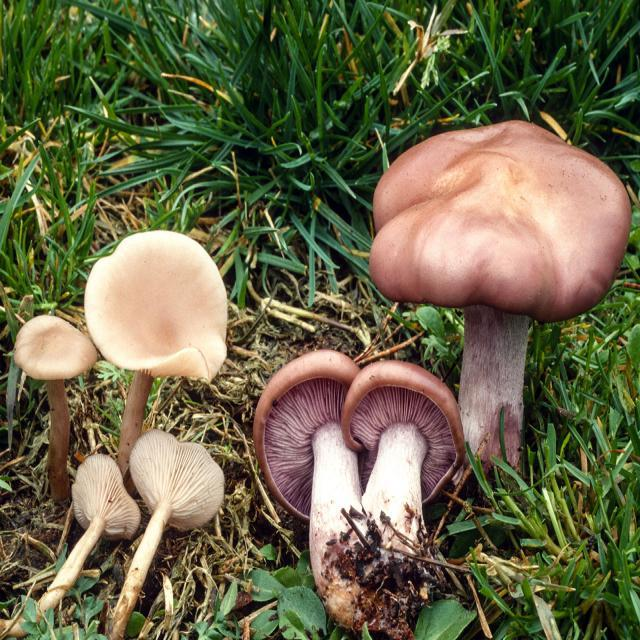Clitocybe maxima: (372, 118, 633, 471), (258, 351, 461, 621), (88, 228, 227, 454), (112, 421, 223, 639), (38, 452, 137, 630), (14, 307, 101, 506)
